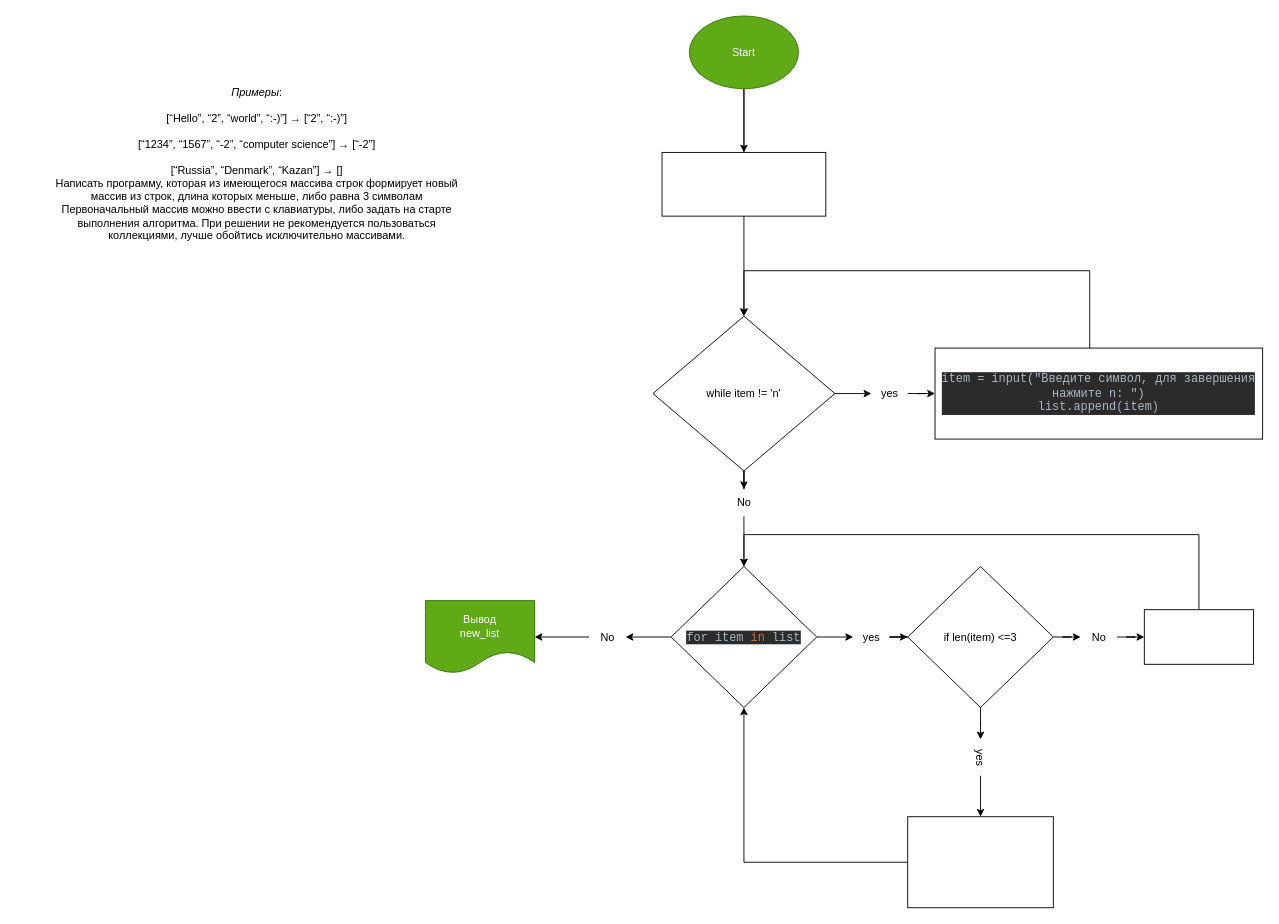
Some shapes in this 1279 by 924 pixel diagram are drawn without their labels. The shapes that lost their labels are listed below. From the top down, each one's box as (x1, y1, x2, y2) in pixels, then its label:
(661, 152, 826, 216): list = [] item = [] new_list = []
(1143, 609, 1254, 664): continue
(907, 816, 1053, 908): new_list.append(item)
